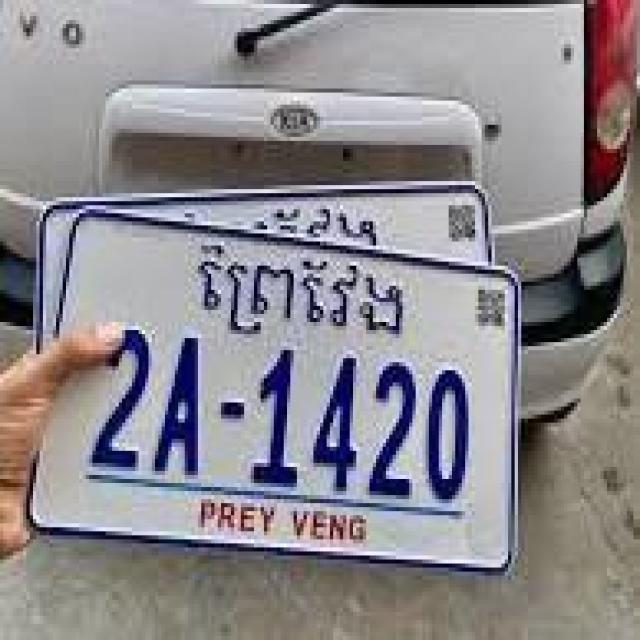Prey_Veng: (195, 242, 408, 340)
